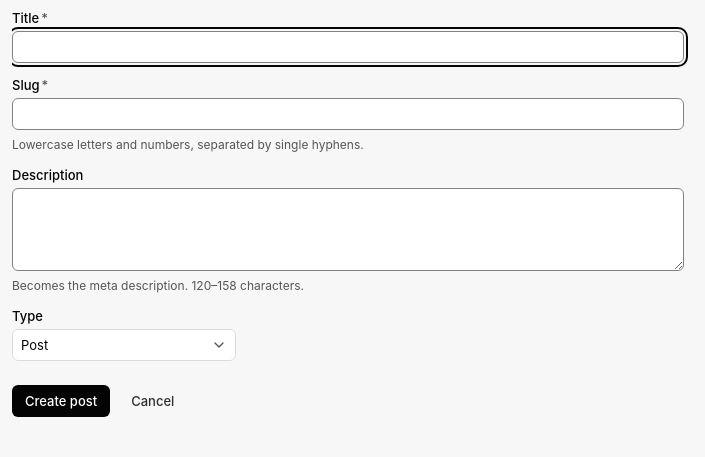
Test: NewDocumentForm › the slug › refuses a slug the capability would reject, without spending a round trip
Type "Draft one" into the field labelled "Title*" at [348, 47], box [12, 31, 684, 63]
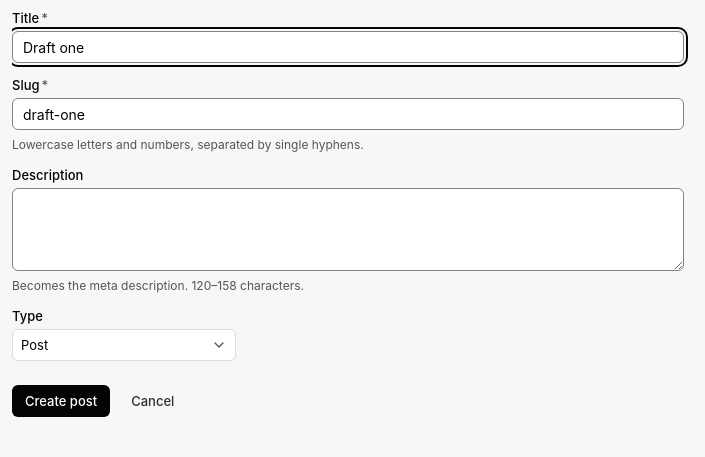
Replace the text in the field labelled "Slug*" with "Not A Slug" at [348, 114], box [12, 98, 684, 130]
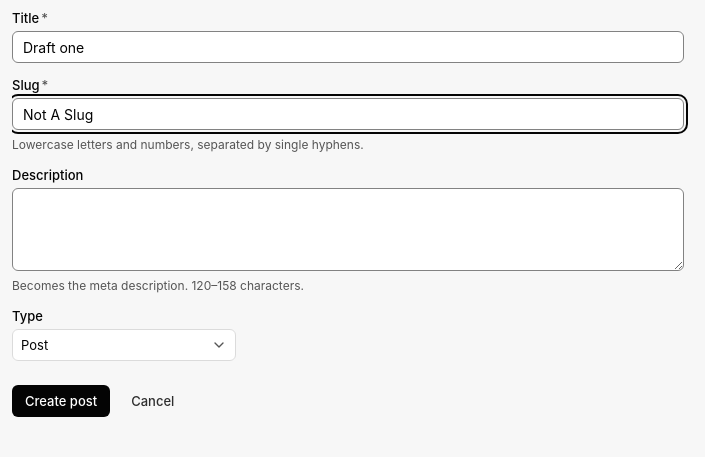
Click the button "Create post" at [61, 401], box [12, 385, 110, 417]
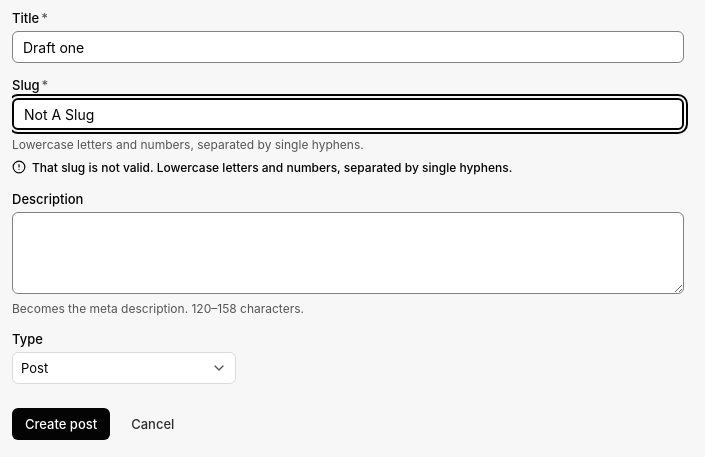
Now the text "That slug is not valid" is shown, box [32, 160, 512, 175]
